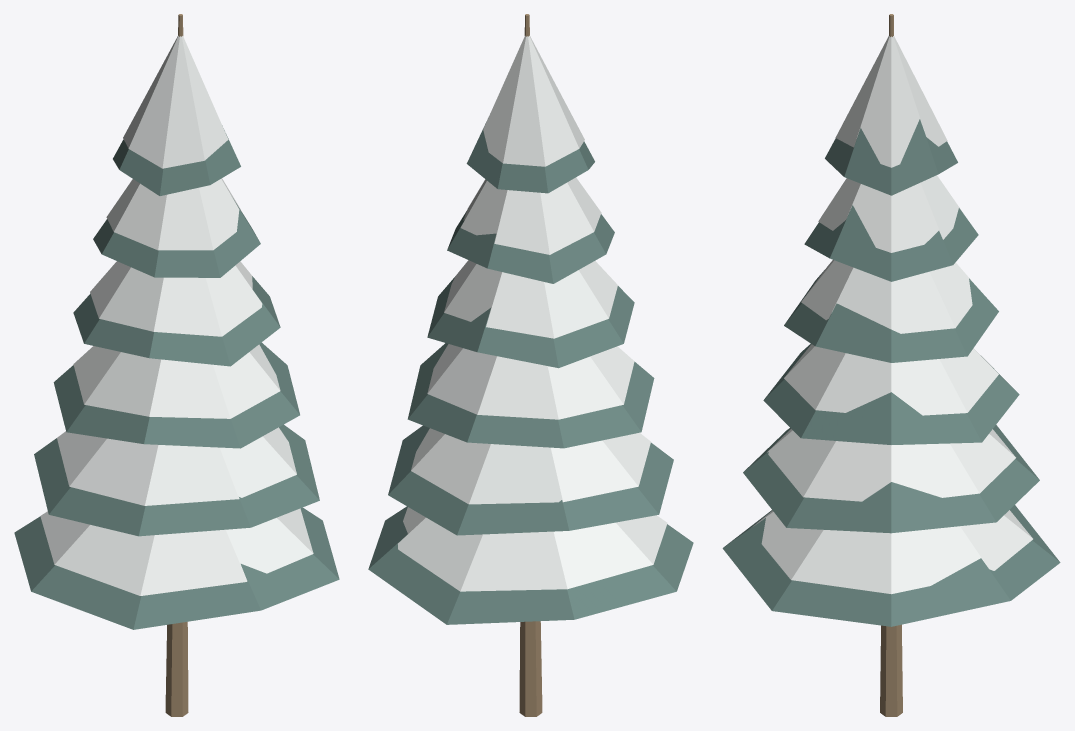
3 renders of one model, left to right at view 1: azimuth 30°, elevation 25°; view 2: azimuth 150°, elevation 25°; view 3: azimuth 270°, elevation 25°, orthographic.
Bounding box in the file's own units: 9.37 × 21.4 × 9.37.
